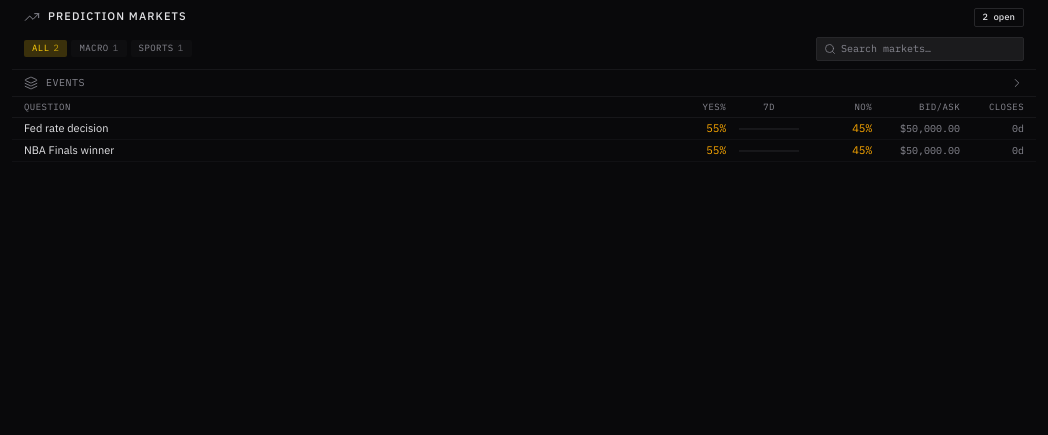
Test: PredictionMarketsPage › omits the category param and shows all markets when the 'all' pill is active
This screenshot has width=1048, height=435.
Expected: the text "Fed rate decision" is shown, [24,121,108,136]
// Filter to macro, then reset to all
Step 1. Click the button "macro1" → (99,49), box [71,40,126,57]
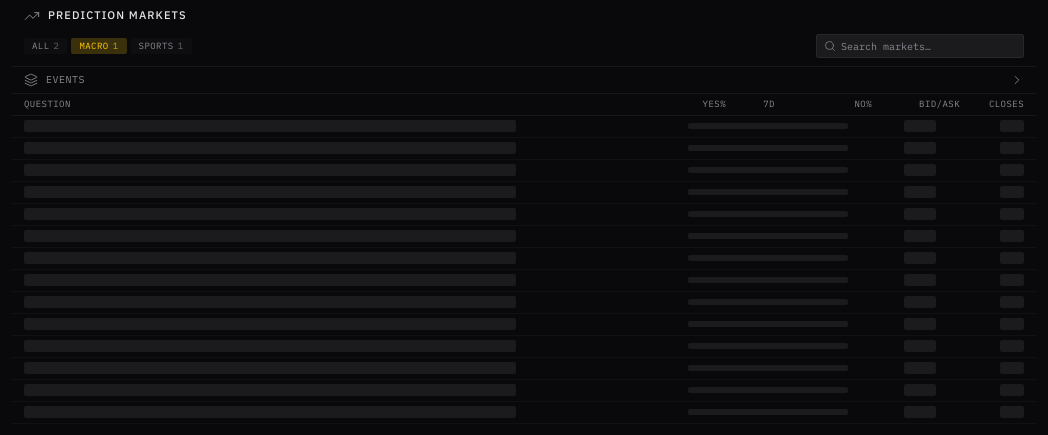
Result: the button "NBA Finals winner" is gone
Step 2. Click the button "all2" → (46,46), box [24,38,67,54]
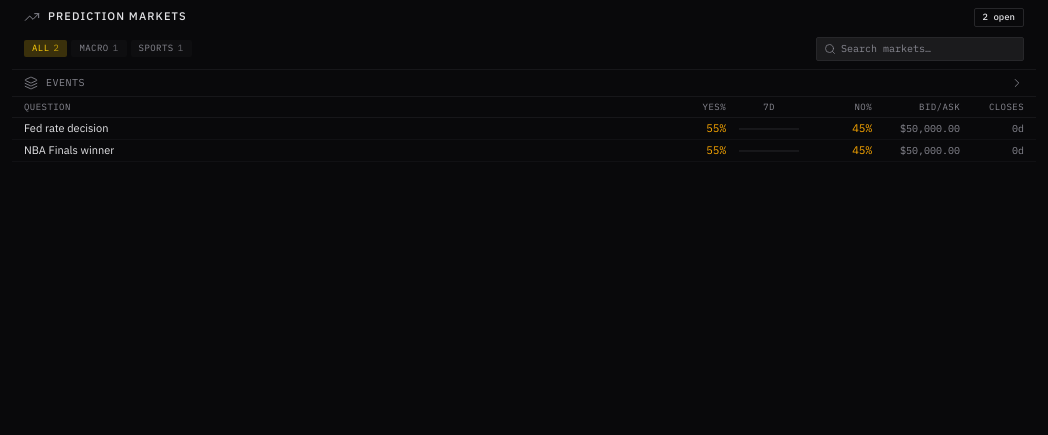
Result: the text "Fed rate decision" is shown at [24,121,108,136]
Result: the text "NBA Finals winner" is shown at [24,143,114,158]
